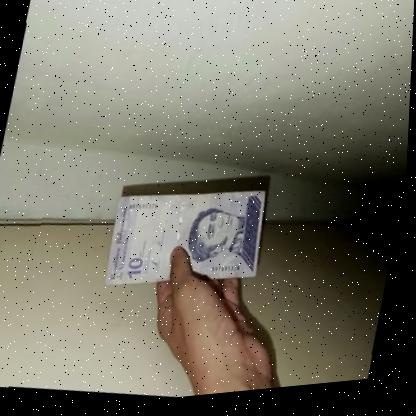ten-front-vef: (103, 173, 276, 310)
